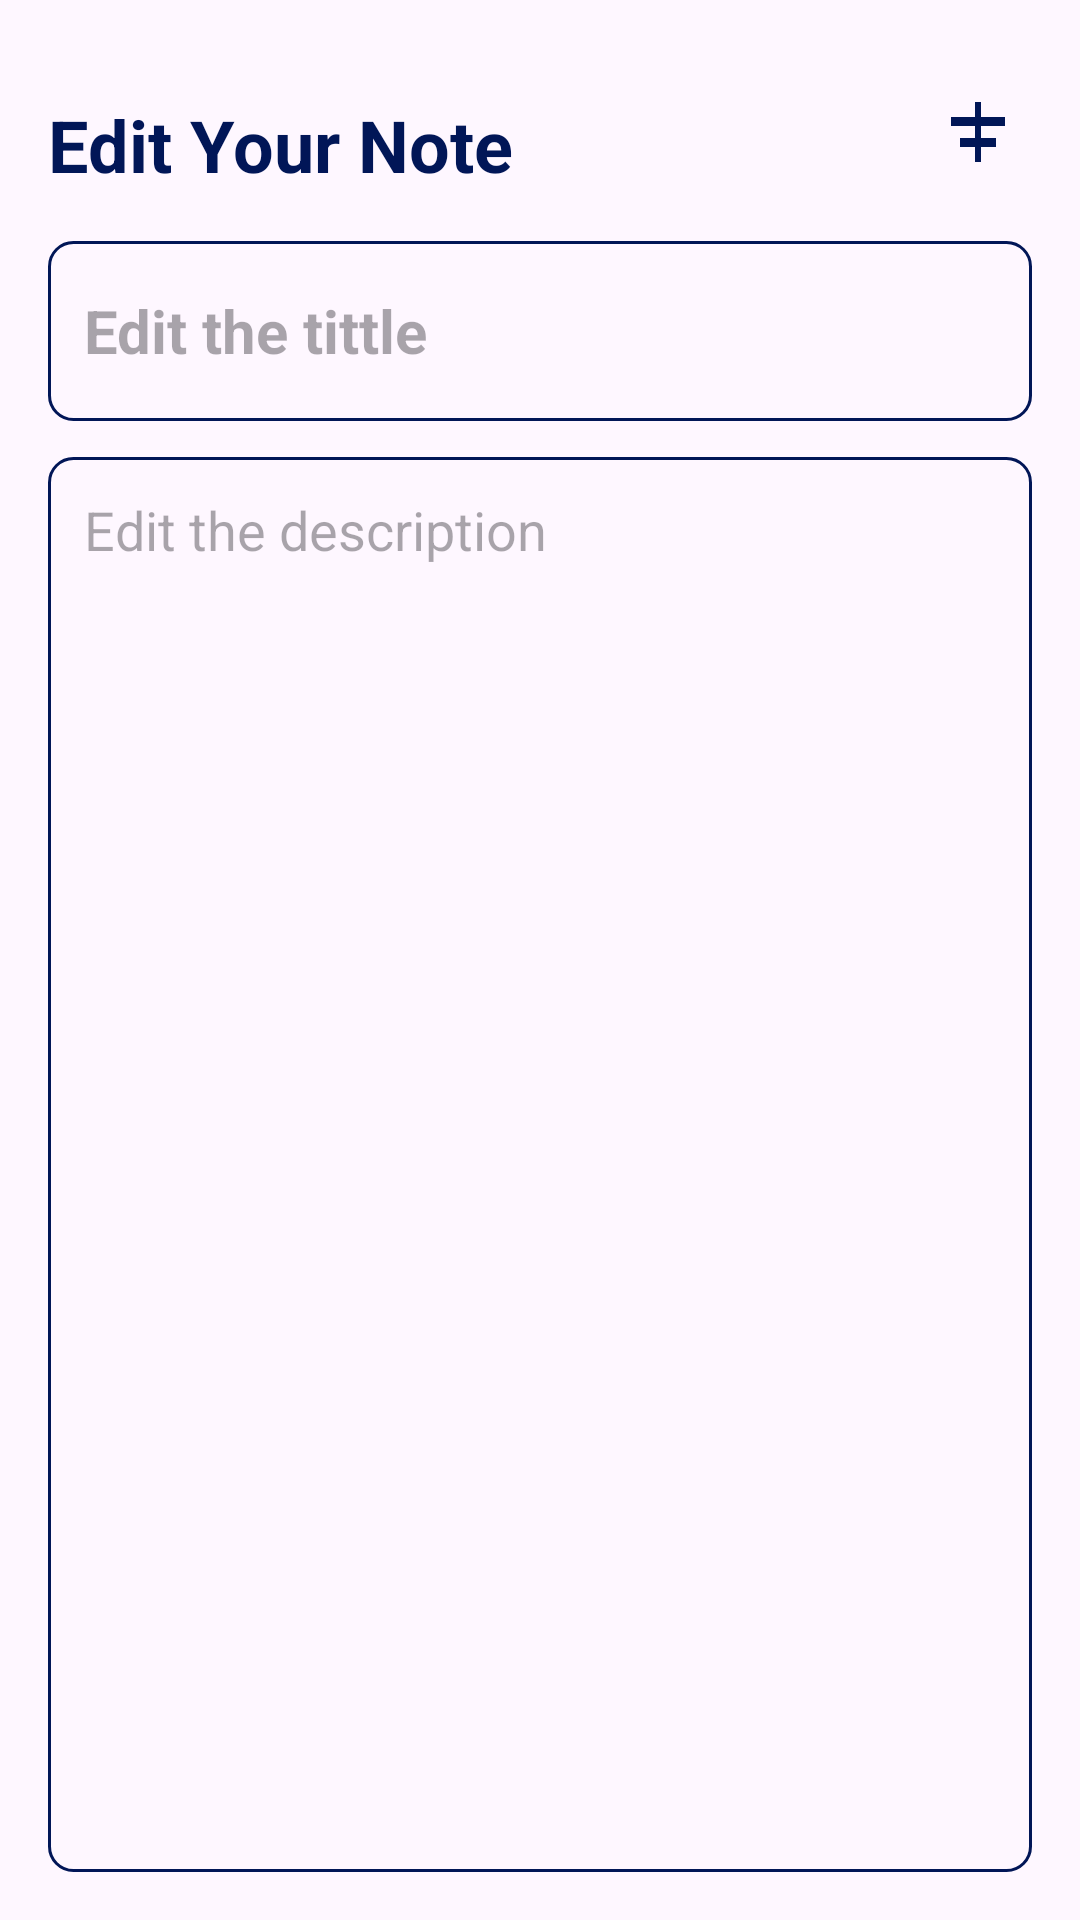

Icons on this 1080px×1920px Android screen, each with the point to tap as (x=x, y=y):
align horizontal center: (x=978, y=132)
